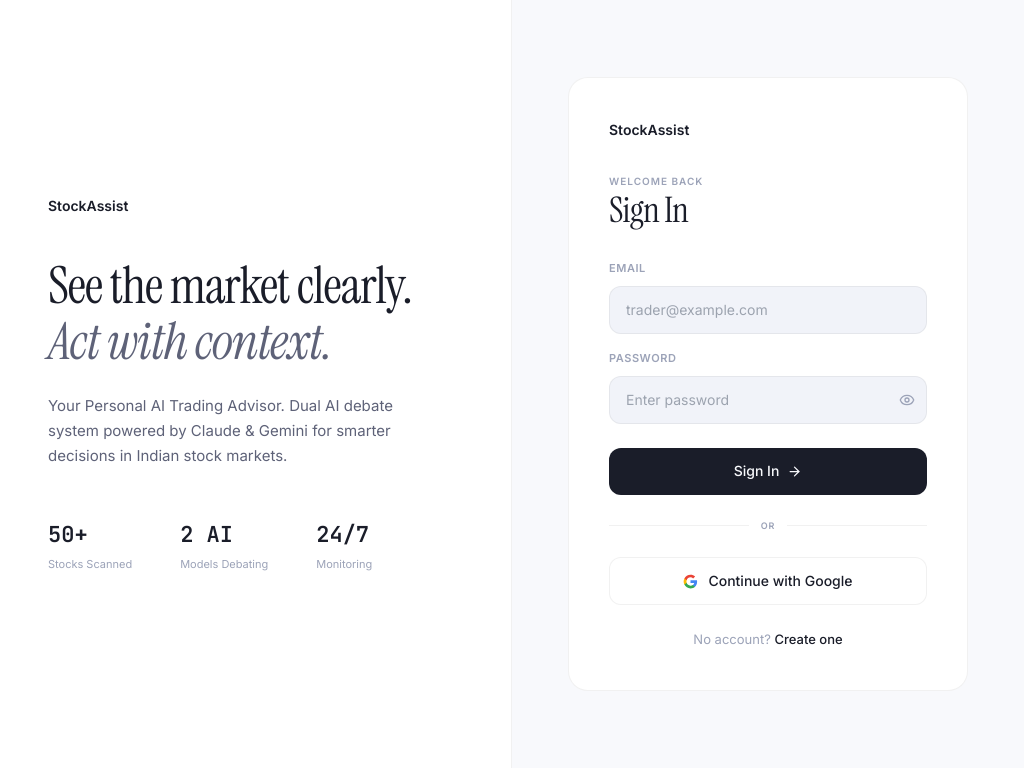
Test: error handling › surfaces rate limiting to the user
Type "trader@test.invalid" into the field with test id "login-email-input" at [768, 310], box [609,286,927,334]
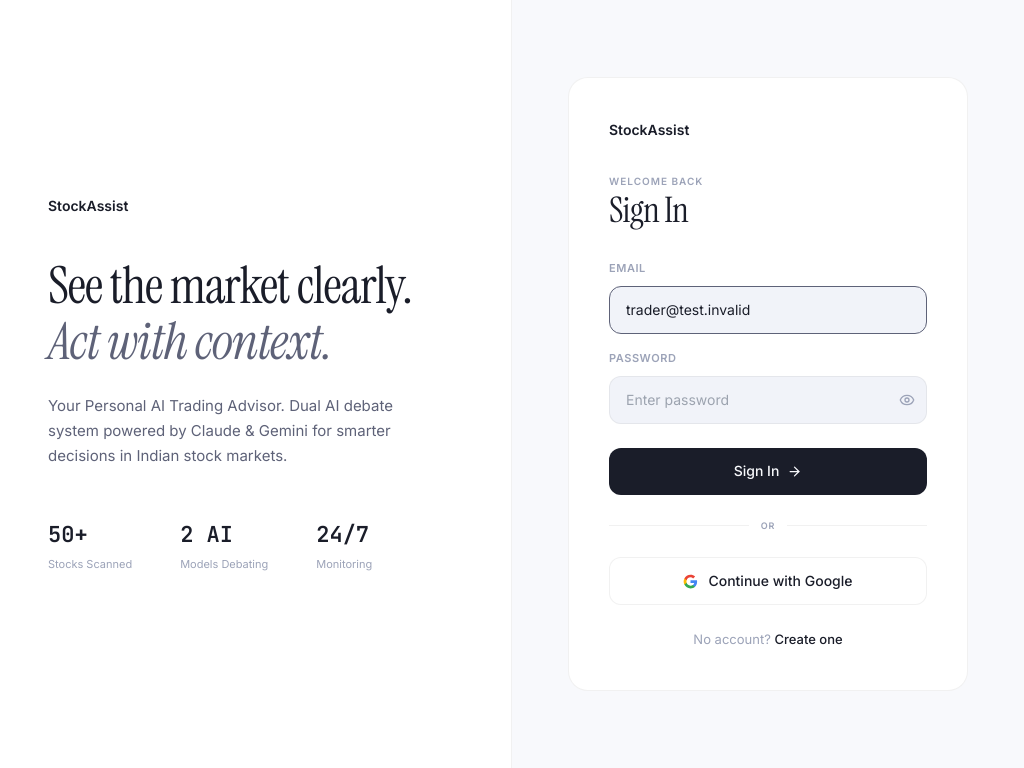
Type "correct-horse-battery" into the password field with test id "login-password-input" at [768, 400], box [609,376,927,424]
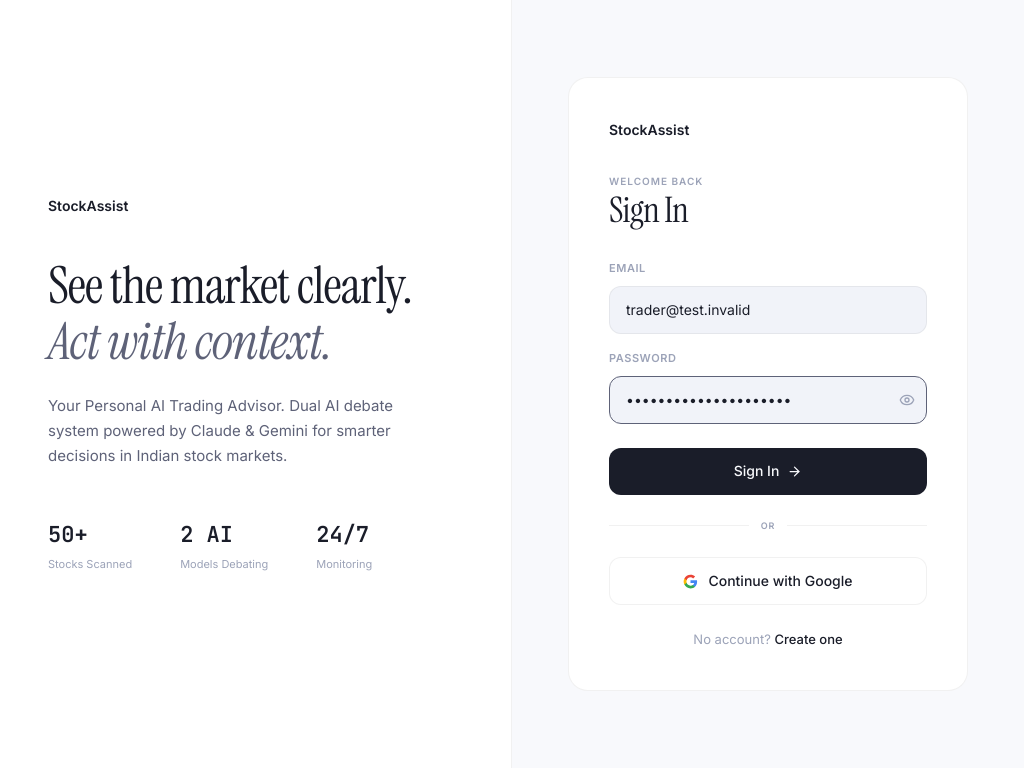
Click the button with test id "login-submit-btn" at [768, 472], box [609,448,927,495]
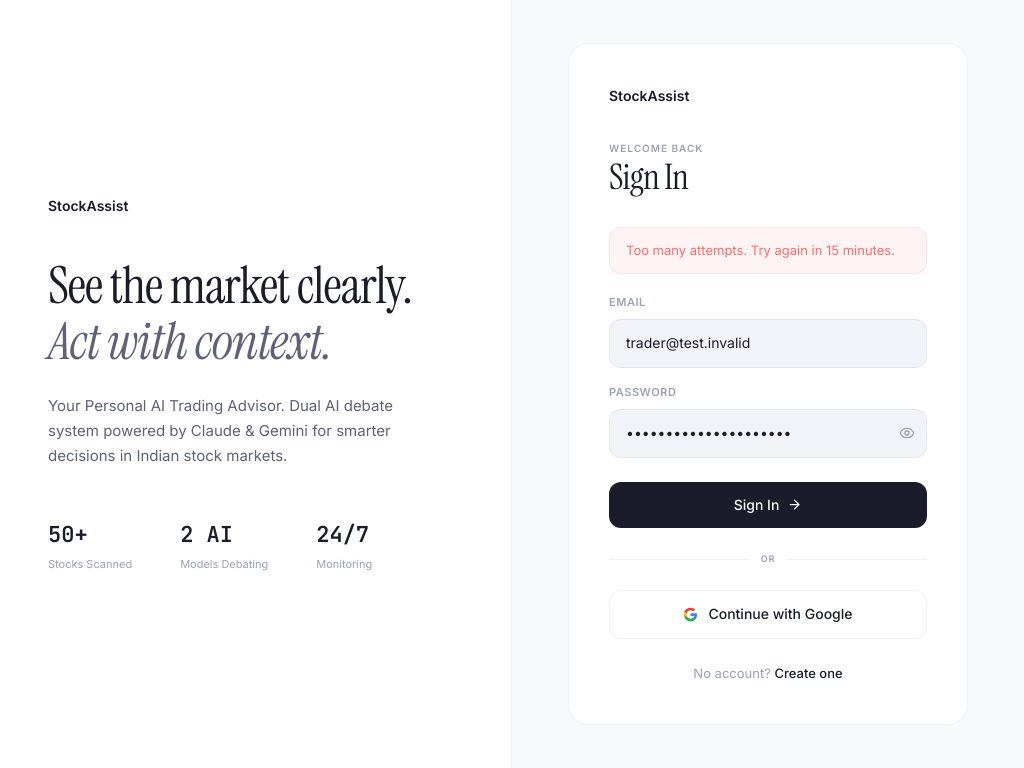
Now the message with test id "login-error" reads "Too many attempts. Try again in 15 minutes.", box [626,242,895,258]
